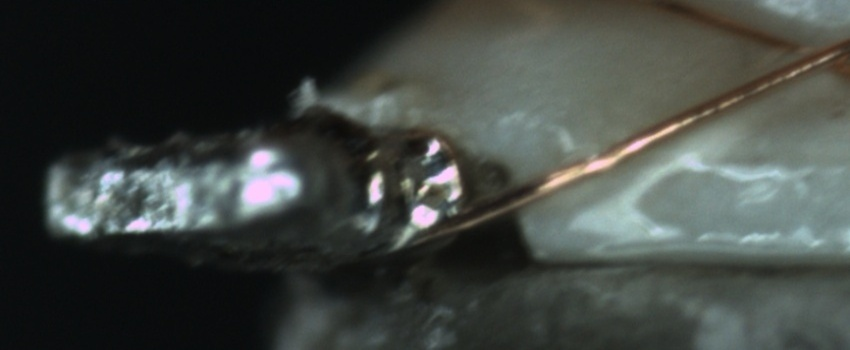CL: (759, 25, 848, 87)
